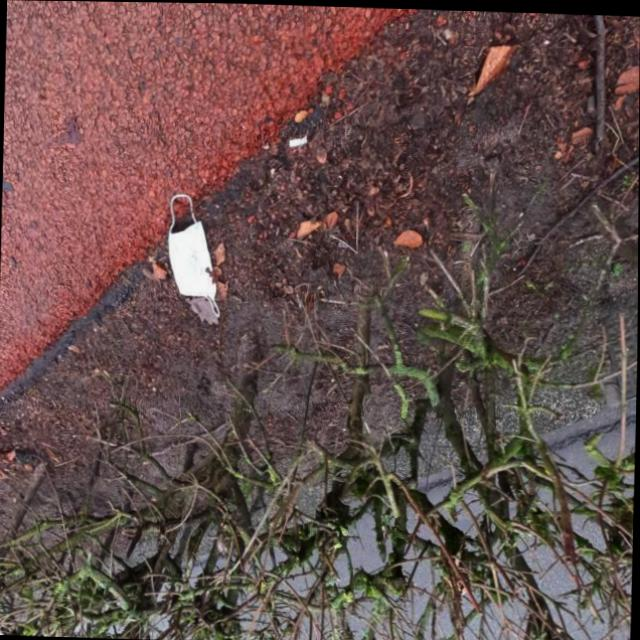Mask: (160, 185, 224, 323)
